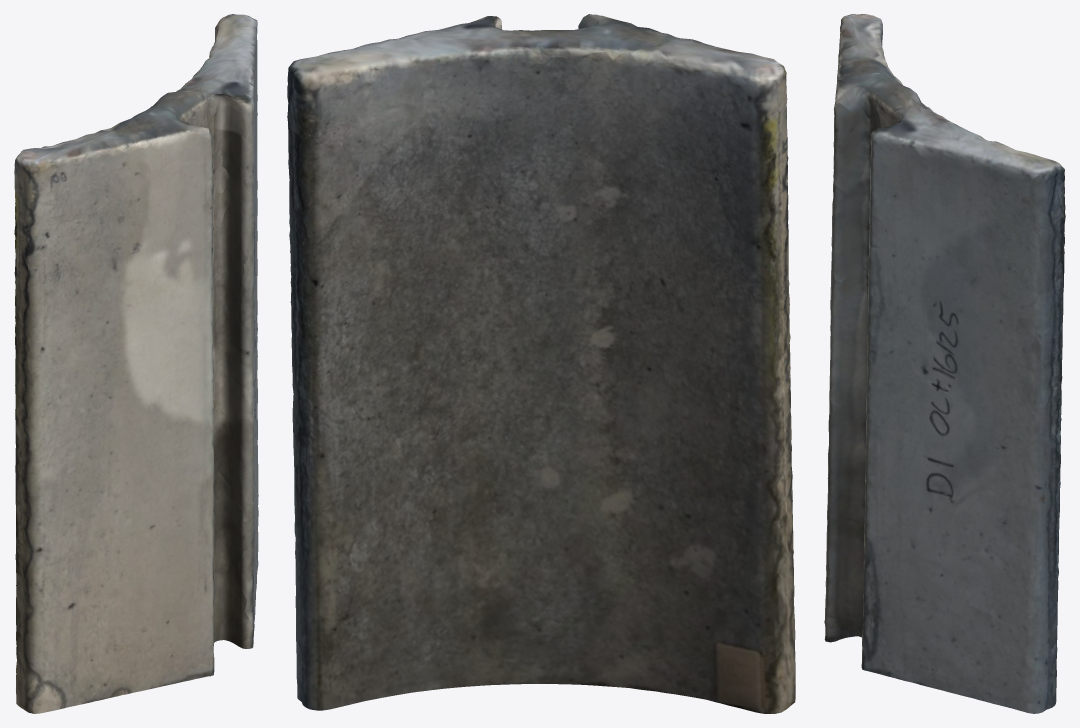
3 views of the same model, side by side, from view 1: azimuth 30°, elevation 25°; view 2: azimuth 150°, elevation 25°; view 3: azimuth 270°, elevation 25° (orthographic). The views are drawn at different scales.
Parts seen in each view (by area): view 1: Node; view 2: Node; view 3: Node.
Boxes of the visible parts, x1=… form: Node: x1=14, y1=14, x2=258, y2=713; Node: x1=287, y1=14, x2=795, y2=713; Node: x1=824, y1=14, x2=1065, y2=713.
Size of the model in its own units: 0.3636 by 0.5799 by 0.2299.
Materials: 1 (1 with a texture image).
